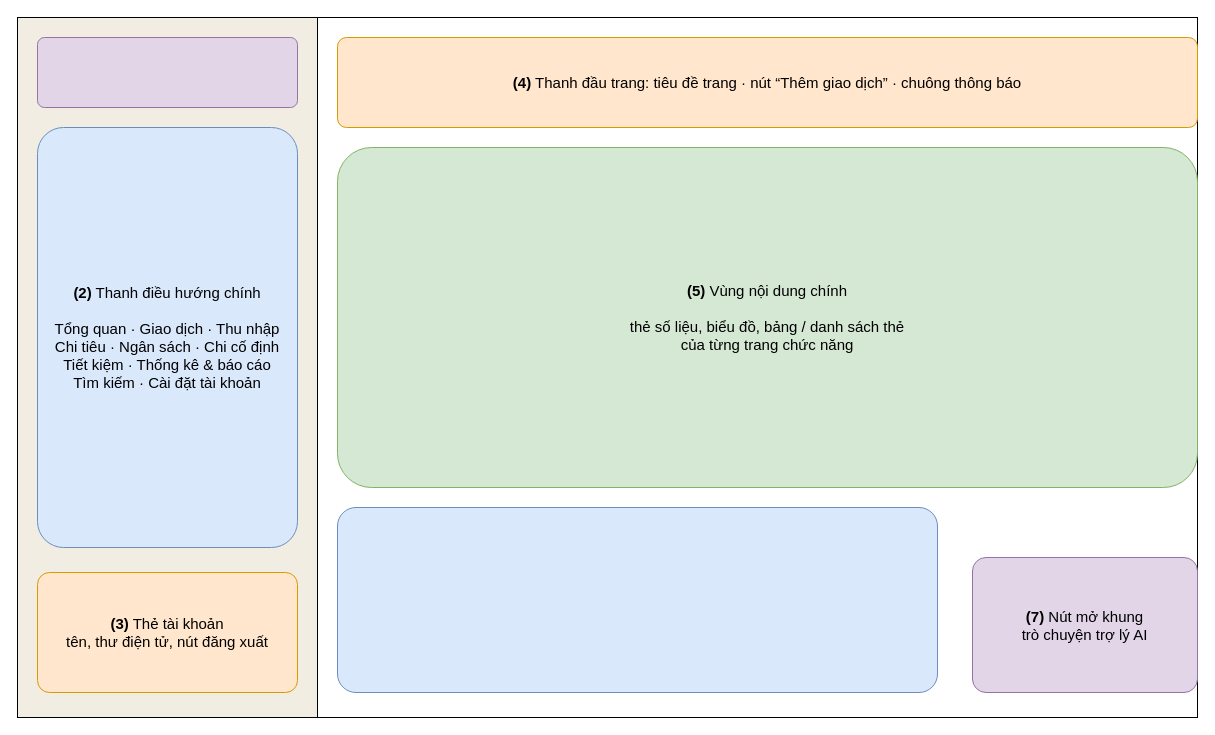
Some shapes in this 1215 by 735 pixel diagram are drawn without their labels. The shapes that lost their labels are listed below. From the top down, each one's centre as x and y in pixels, then its label:
At point (167, 72): "(1) Logo ChiLotus".
At point (637, 599): "(6) Vùng phụ: bộ lọc, danh sách gần đây, chú thích biểu đồ".
